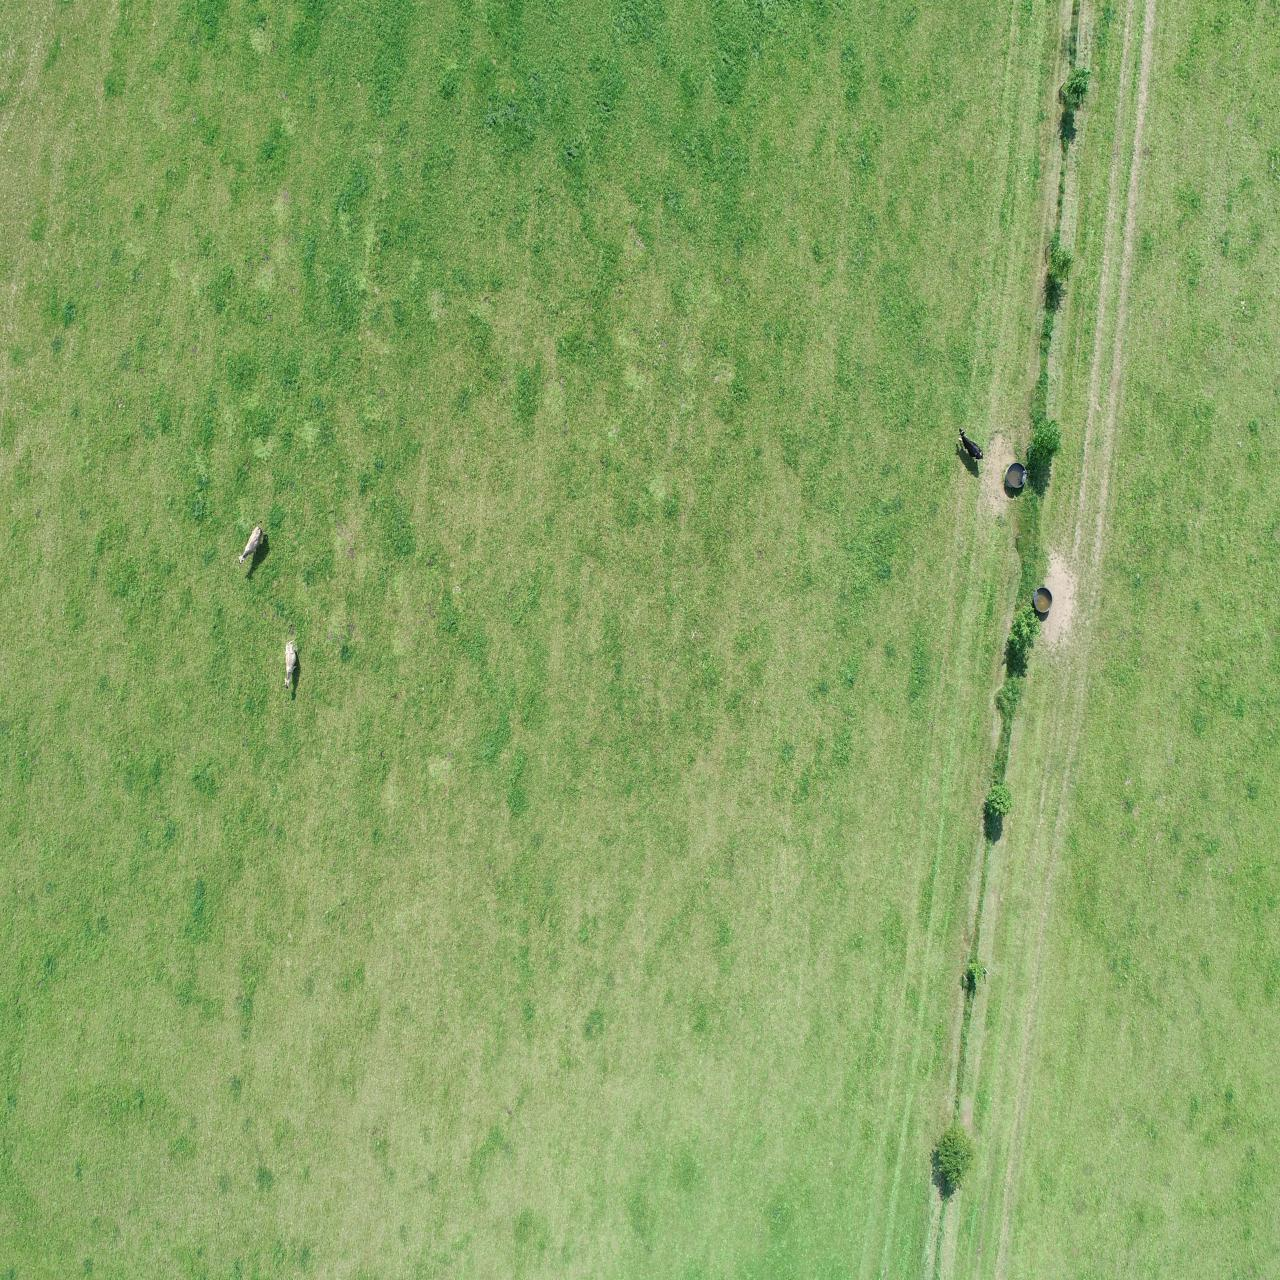cow: (234, 523, 273, 565), (280, 636, 302, 701), (956, 425, 987, 469)
